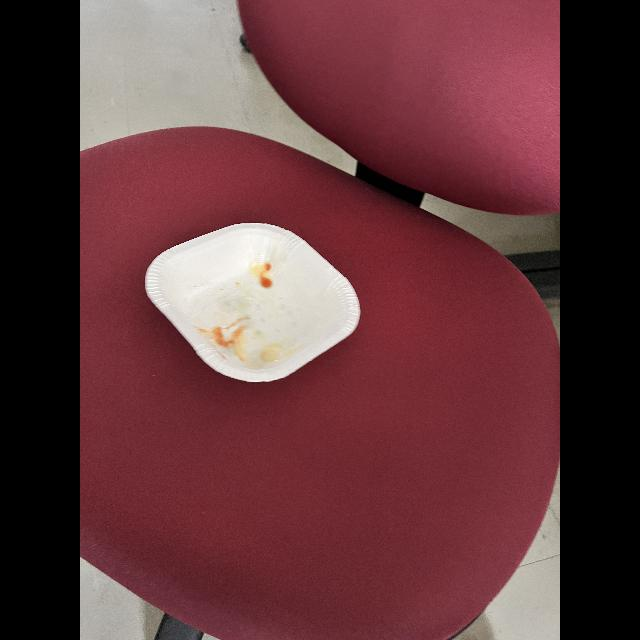cardboard_bowl: (133, 215, 367, 388)
